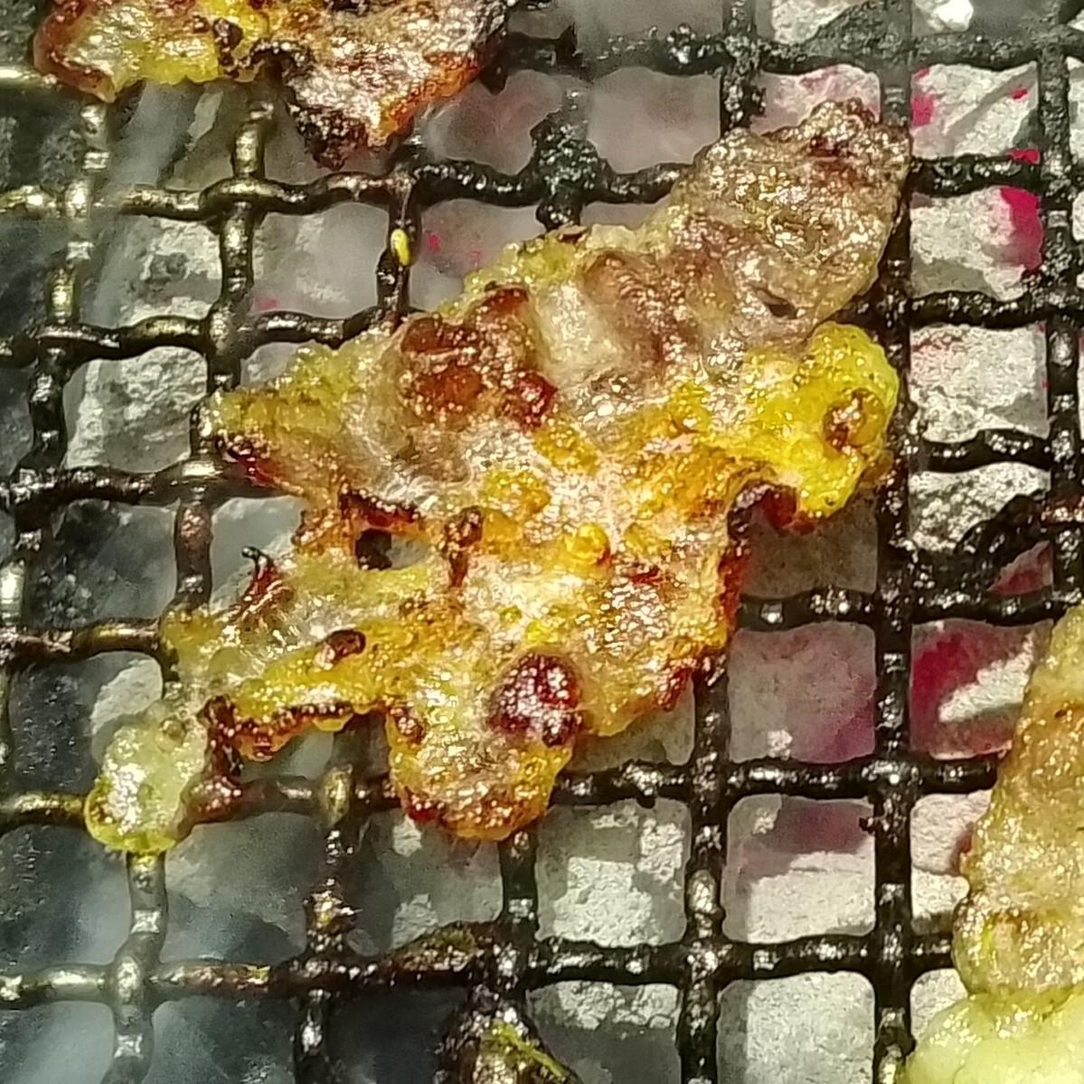Overcooked: (78, 67, 911, 860), (32, 0, 526, 165)
Well-Cooked: (952, 602, 1083, 1083)
